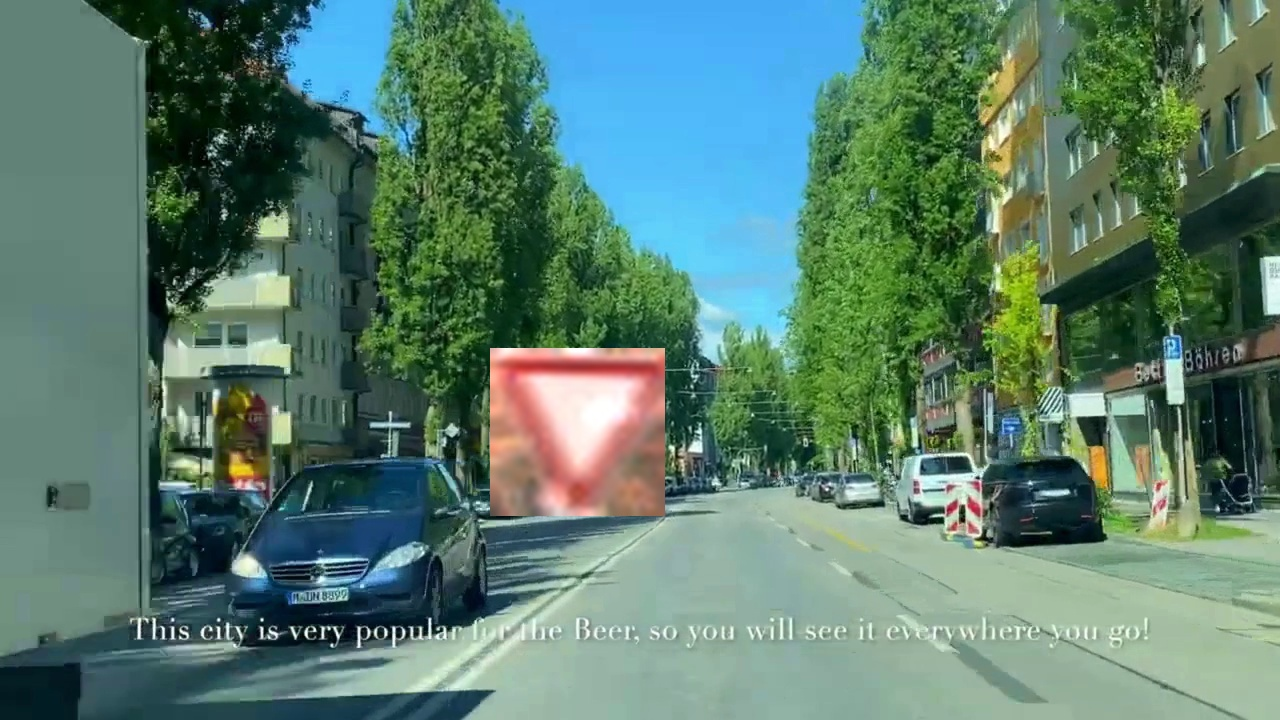Yield: (490, 348, 665, 516)
